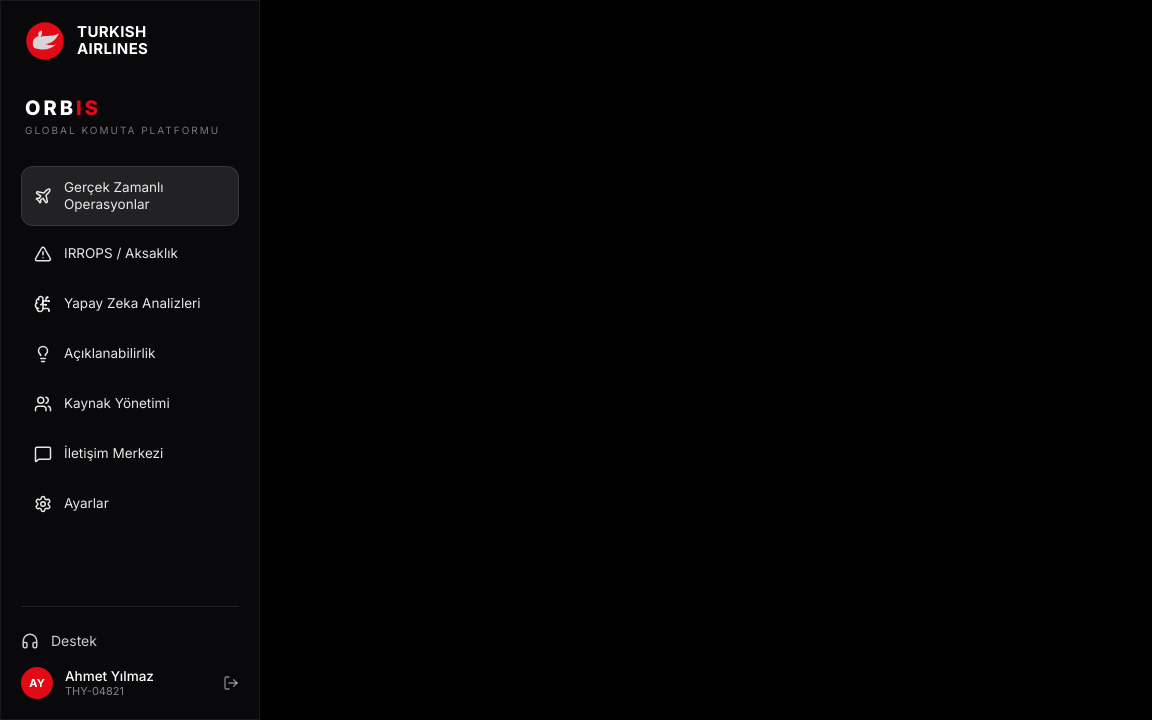
Test: Sidebar › Destek butonu modal acar
Step 1. Click the button "Destek" → point(130, 641), box [21,631,239,651]
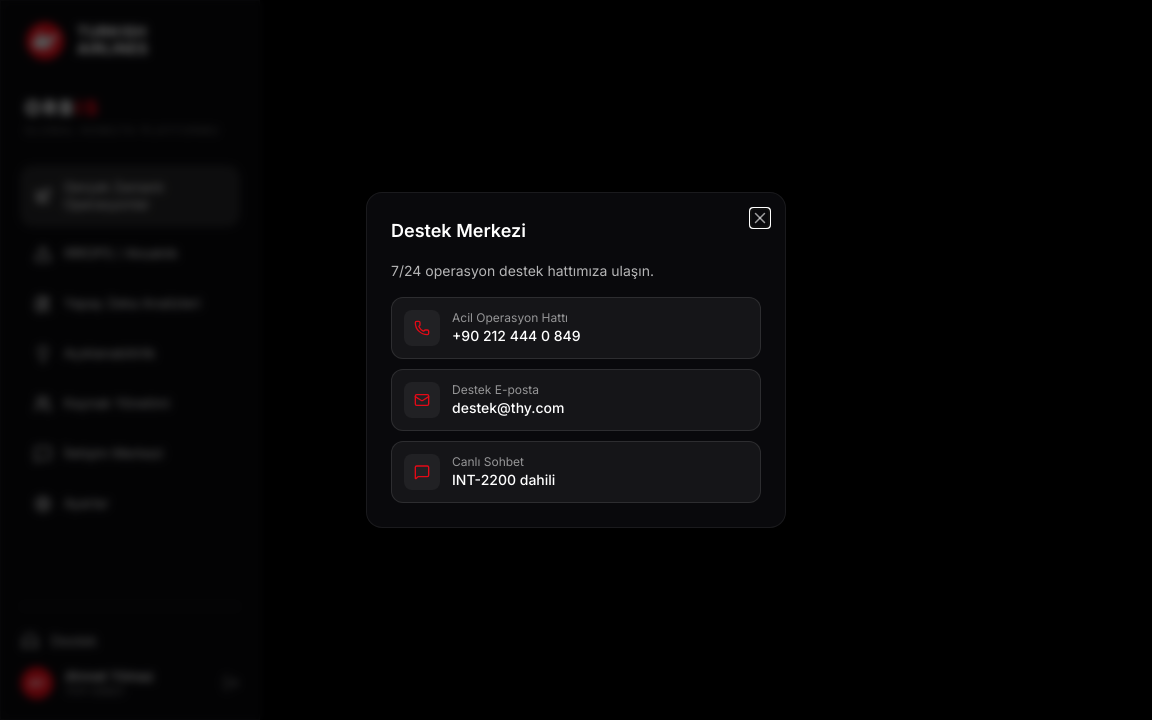
Expected: the heading "Destek Merkezi" is shown, [391,220,526,241]
